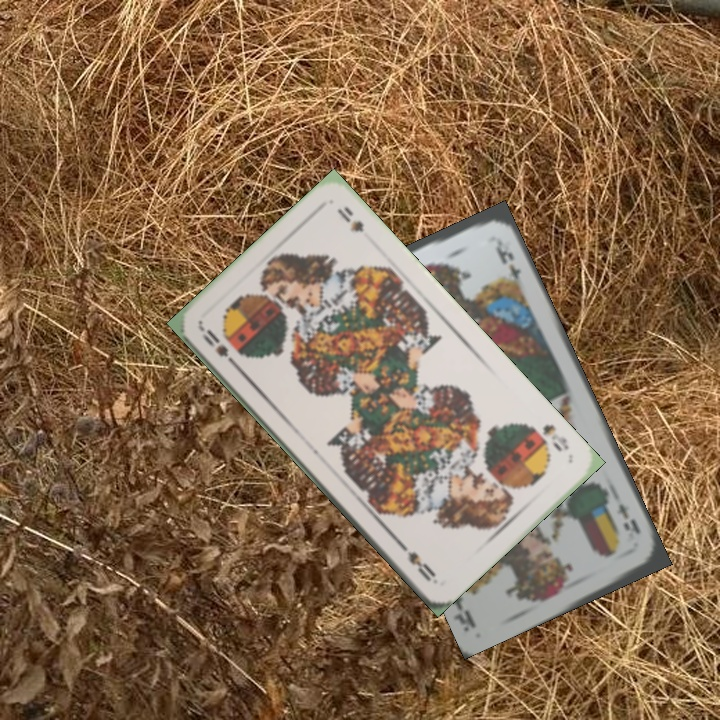EK: (611, 500, 643, 537)
SO: (196, 324, 242, 372), (523, 419, 572, 455)
